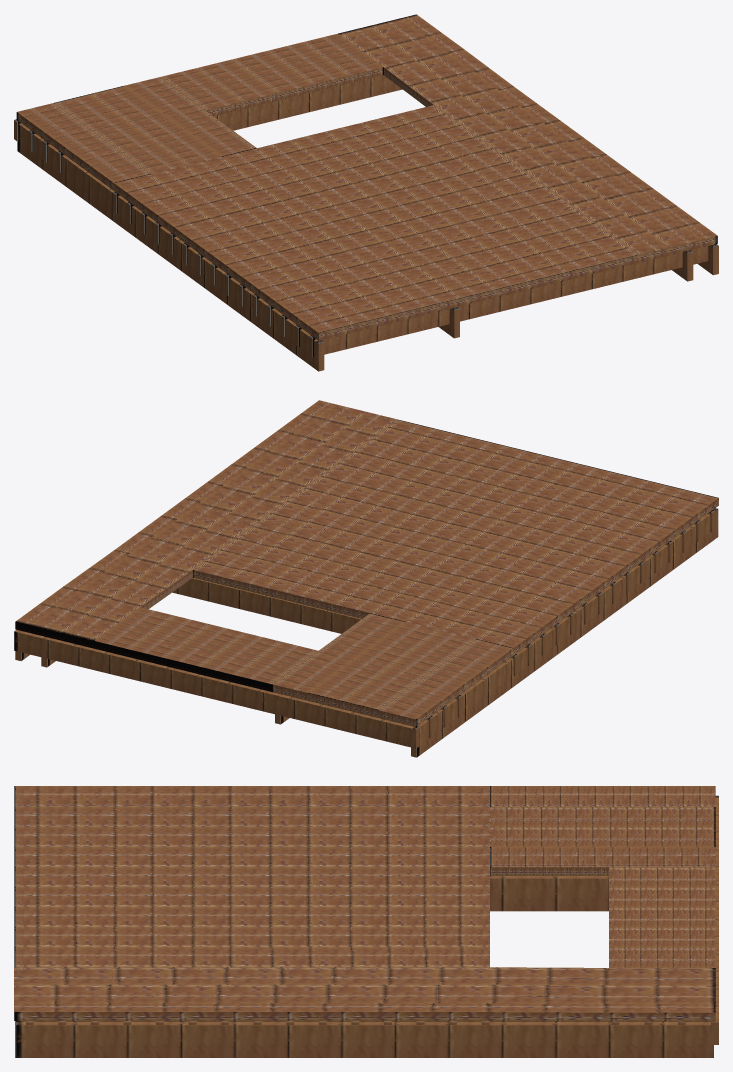
Rendered from BasementRoof.fbx.
3 views of the same model, one above another, from view 1: azimuth 30°, elevation 25°; view 2: azimuth 150°, elevation 25°; view 3: azimuth 270°, elevation 25° (orthographic). The views are drawn at different scales.
Parts seen in each view (by area): view 1: BasementRoof, BasementRoof_LeftAberture, TableColumns, TopBasementAberture, TableRows, BottomBasementAberture, TableRow1; view 2: BasementRoof, BasementRoof_LeftAberture, TableRow4, TableColumns, TopBasementAberture, TableRows, BottomBasementAberture; view 3: BasementRoof, TableColumns, BasementRoof_LeftAberture, TopBasementAberture, BottomBasementAberture, TableRow4, TableColumn1, TableRows.
Part boxes in pixels (x1=…): BasementRoof: x1=114, y1=86, x2=717, y2=340; BasementRoof_LeftAberture: x1=16, y1=14, x2=461, y2=152; TableColumns: x1=17, y1=123, x2=718, y2=371; TopBasementAberture: x1=62, y1=110, x2=256, y2=190; TableRows: x1=112, y1=192, x2=708, y2=357; BottomBasementAberture: x1=383, y1=48, x2=512, y2=106; TableRow1: x1=57, y1=75, x2=402, y2=172; BasementRoof: x1=114, y1=400, x2=718, y2=655; BasementRoof_LeftAberture: x1=15, y1=588, x2=461, y2=726; TableRow4: x1=14, y1=629, x2=419, y2=748; TableColumns: x1=15, y1=508, x2=718, y2=757; TopBasementAberture: x1=319, y1=613, x2=513, y2=693; TableRows: x1=172, y1=510, x2=714, y2=675; BottomBasementAberture: x1=62, y1=550, x2=192, y2=609; BasementRoof: x1=14, y1=786, x2=489, y2=1020; TableColumns: x1=15, y1=876, x2=713, y2=1057; BasementRoof_LeftAberture: x1=609, y1=786, x2=715, y2=1021; TopBasementAberture: x1=490, y1=786, x2=608, y2=875; BottomBasementAberture: x1=490, y1=967, x2=608, y2=1021; TableRow4: x1=711, y1=795, x2=718, y2=1044; TableColumn1: x1=15, y1=1021, x2=710, y2=1021; TableRows: x1=26, y1=1021, x2=489, y2=1024.
Size of the model in its own units: 373 by 34.33 by 488.
